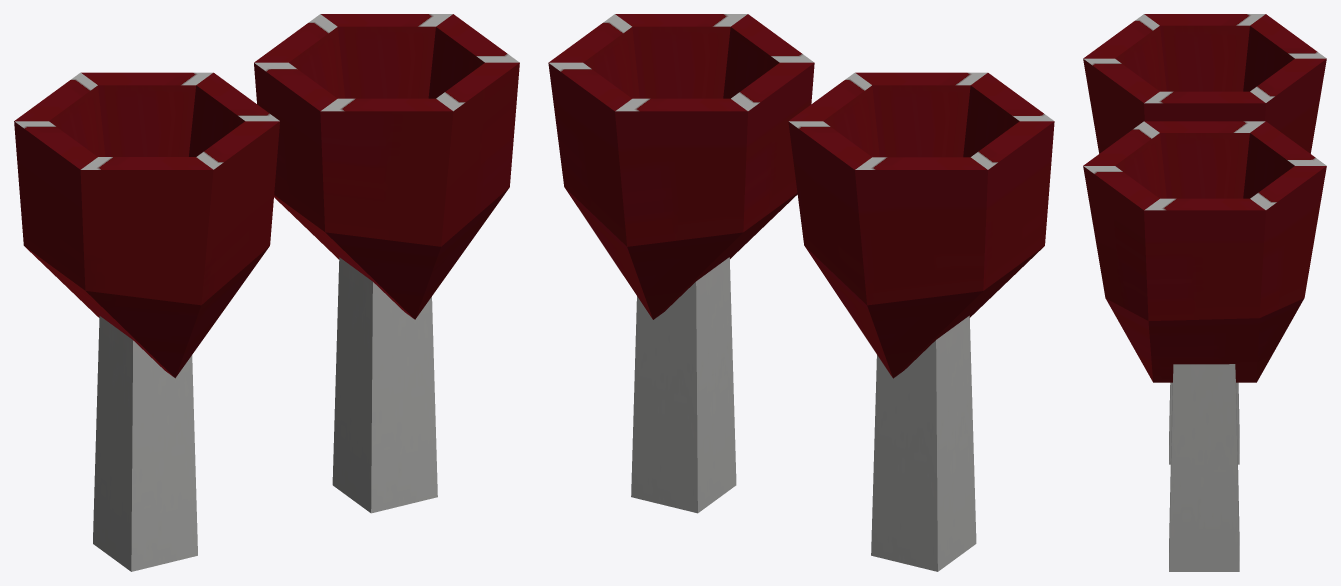
File: X2Item.fbx
3 renders of one model, left to right at view 1: azimuth 30°, elevation 25°; view 2: azimuth 150°, elevation 25°; view 3: azimuth 270°, elevation 25°, orthographic. The views are drawn at different scales.
Parts seen in each view (by area): view 1: X2; view 2: X2; view 3: X2.
Part boxes in pixels (box(x1,y1,x2,y2)): X2: box(14, 14, 519, 571); X2: box(548, 14, 1054, 571); X2: box(1083, 14, 1326, 571).
Bounding box in the file's own units: 27.16 × 25.28 × 14.24.
